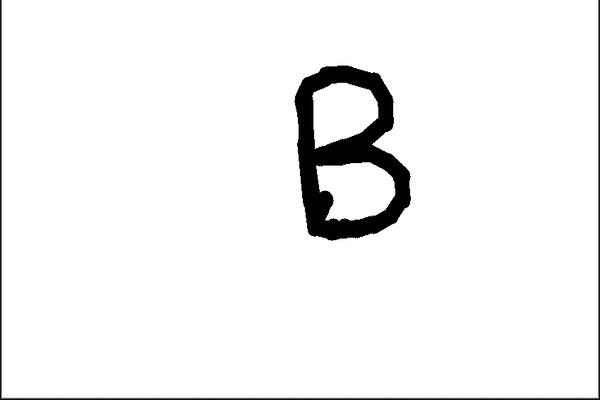B: (288, 58, 416, 241)
